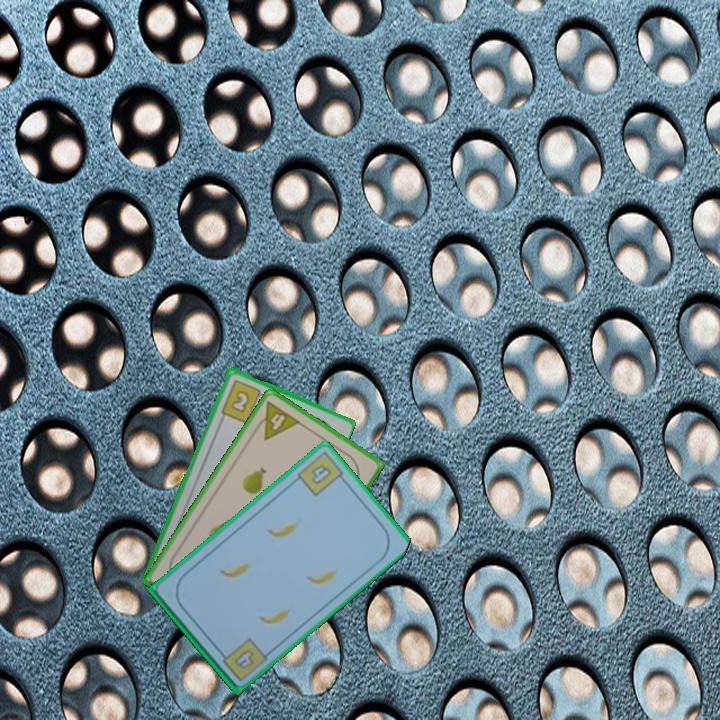2b: (217, 376, 269, 426)
4b: (293, 448, 349, 500), (230, 645, 257, 672)
4p: (249, 397, 303, 443)
